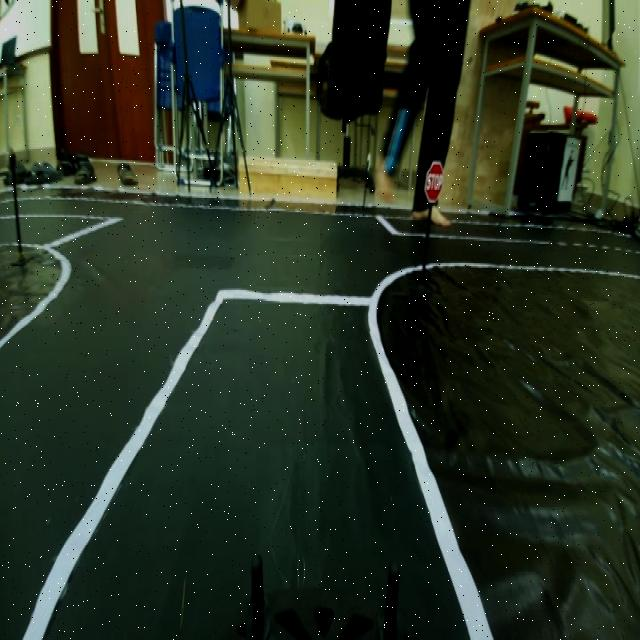stop: (422, 156, 448, 215)
